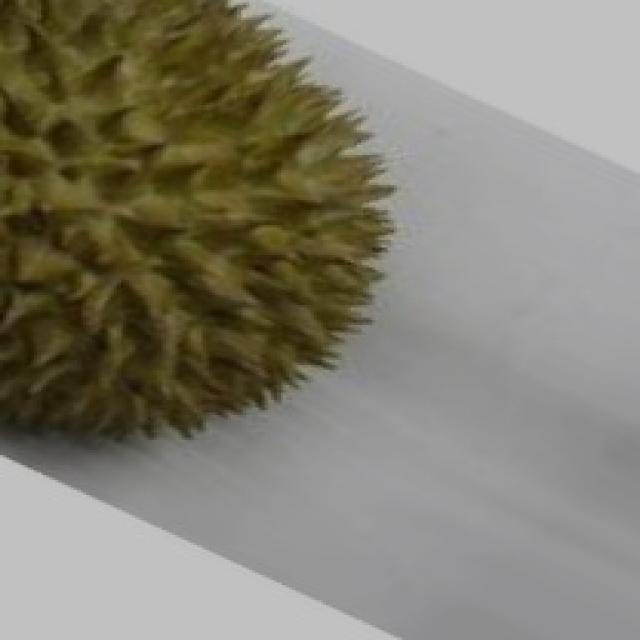fruit: (0, 115, 434, 507)
